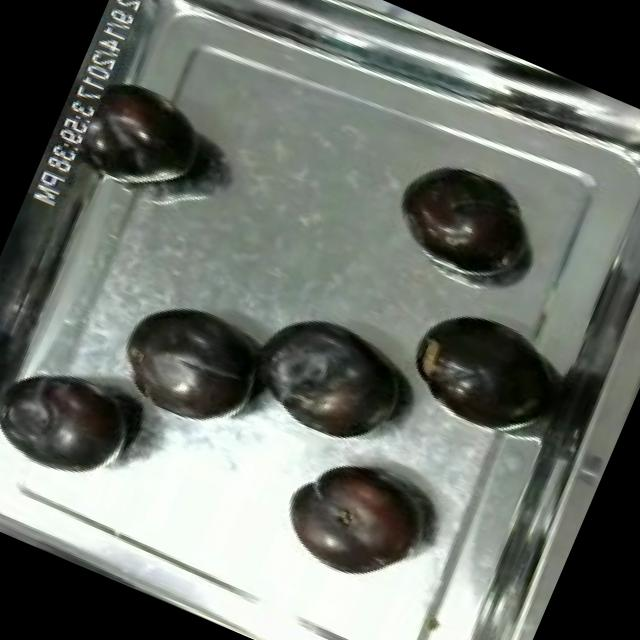Fruit: (100, 274, 290, 450), (232, 293, 428, 462), (270, 438, 441, 600), (391, 290, 565, 449), (379, 143, 543, 291), (0, 343, 154, 499)
